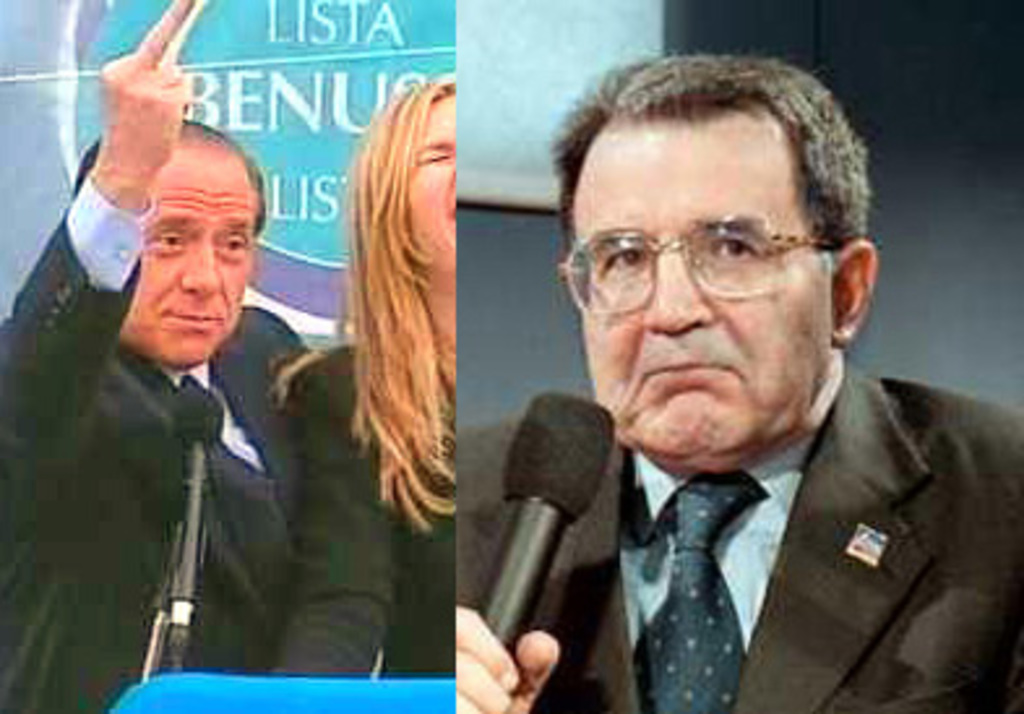Person: (273, 76, 452, 679)
